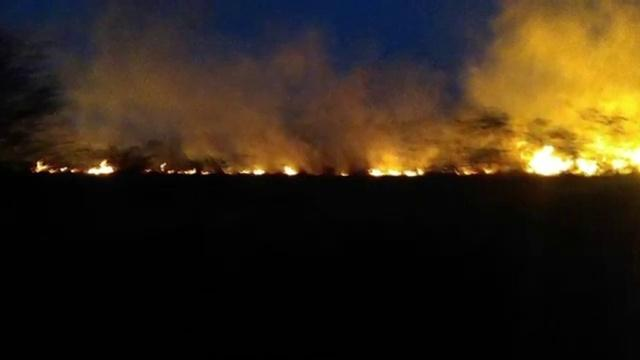fire: (530, 145, 565, 175), (614, 142, 640, 174), (242, 168, 300, 177), (576, 155, 604, 173), (88, 163, 118, 175)
smoke: (101, 66, 241, 123)
